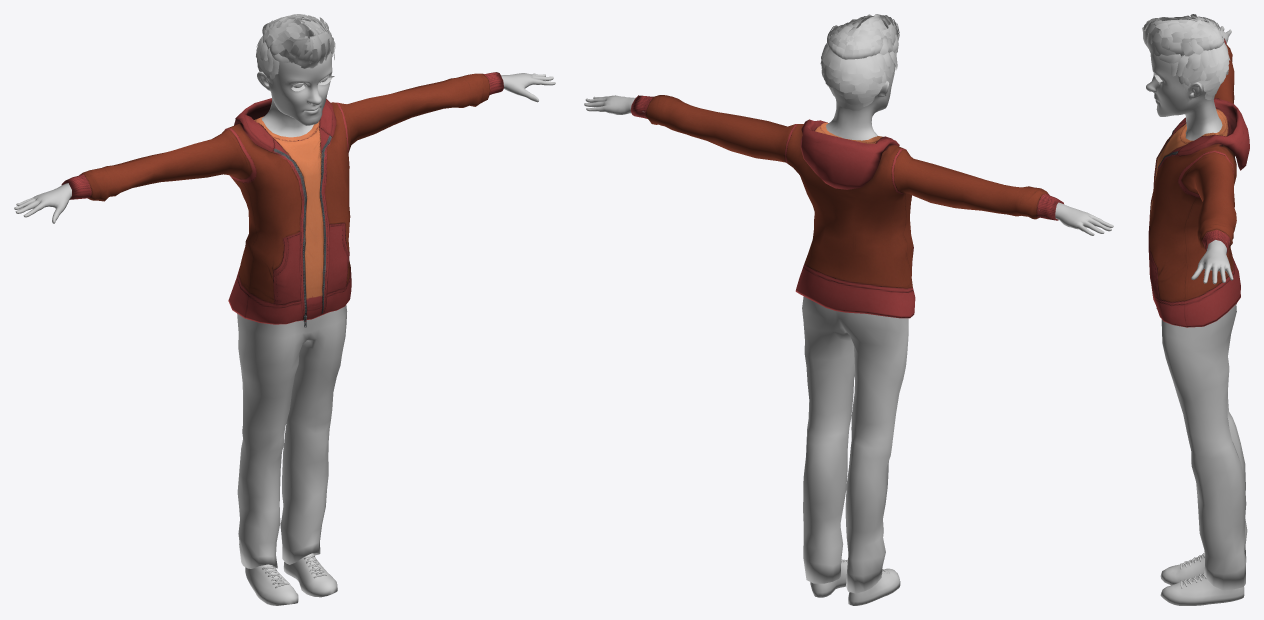
File: Tipico 2.obj
3 renders of one model, left to right at view 1: azimuth 30°, elevation 25°; view 2: azimuth 150°, elevation 25°; view 3: azimuth 270°, elevation 25°, orthographic. The views are drawn at different scales.
Visible parts, largest first — view 1: Tops, Bottoms, Body, Hair, Shoes; view 2: Tops, Bottoms, Hair, Body, Shoes; view 3: Tops, Bottoms, Hair, Body, Shoes.
Part boxes in pixels (x1,y1,x2,y2): Tops: (61,72,503,327); Bottoms: (237,305,347,568); Body: (14,19,555,223); Hair: (256,14,335,86); Shoes: (245,553,337,605); Tops: (630,95,1063,318); Bottoms: (802,296,908,593); Hair: (820,14,899,110); Body: (584,44,1113,235); Shoes: (810,559,900,605); Tops: (1148,38,1249,327); Bottoms: (1161,303,1247,590); Hair: (1142,14,1230,101); Body: (1146,26,1233,284); Shoes: (1160,553,1244,605).
Bounding box in the file's own units: 165 × 169 × 28.81.
